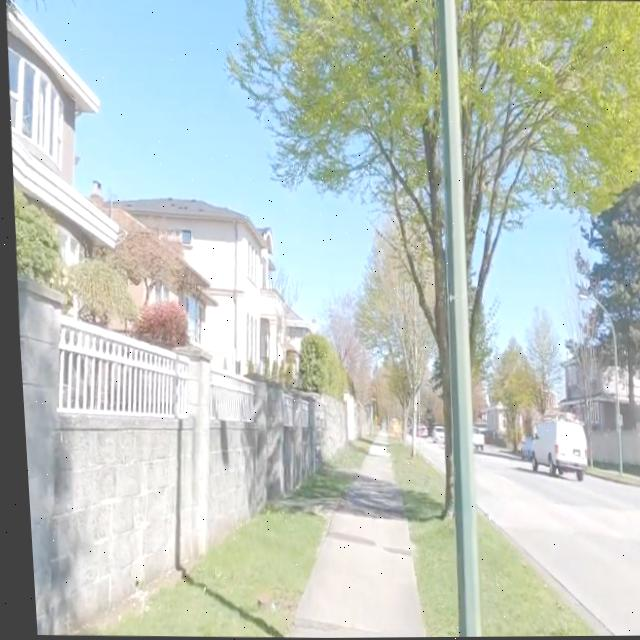Automobile: (526, 414, 580, 480), (467, 429, 477, 449), (427, 427, 437, 443)
Obstacle: (88, 510, 318, 637), (47, 413, 171, 622), (436, 0, 472, 638), (472, 516, 588, 637), (172, 418, 259, 563), (384, 443, 447, 638)
Road: (468, 447, 640, 637), (415, 442, 436, 472)
Sidewalk: (283, 501, 416, 638), (352, 445, 393, 508)
